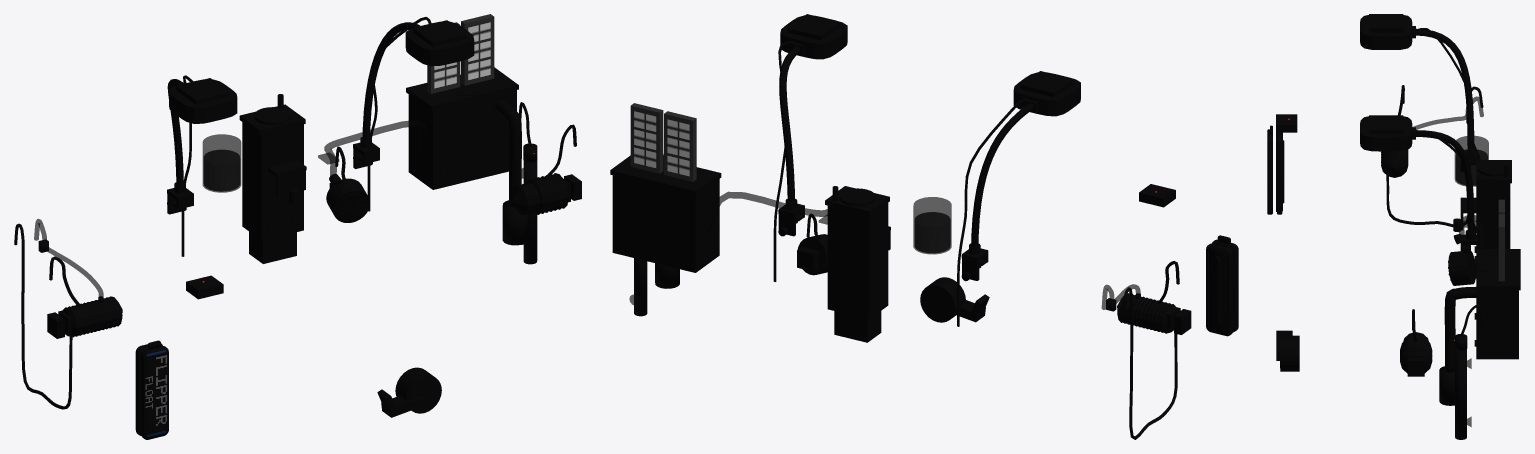
File: equipment.glb
3 views of the same model, side by side, from view 1: azimuth 30°, elevation 25°; view 2: azimuth 150°, elevation 25°; view 3: azimuth 270°, elevation 25° (orthographic). The views are drawn at different scales.
Parts seen in each view (by area): view 1: HobFilter, Skimmer, AiPrimeR, AiPrimeL, Flipper, PowerheadRight, PowerheadLeft, IntakeTube, Jar, PowerheadBack, FrontMagnet, Heater (+5 smaller); view 2: HobFilter, Skimmer, AiPrimeL, AiPrimeR, Flipper, PowerheadLeft, Jar, FrontMagnet, PowerheadBack, CableLeft, ReturnPipe, Heater (+1 smaller); view 3: HobFilter, AiPrimeR, AiPrimeL, Skimmer, IntakeTube, Heater, PowerheadRight, Flipper, Jar, PowerheadBack, PowerheadLeft, FrontMagnet (+4 smaller).
Boxes of the visible parts, <box> form: HobFilter: <box>406,14,518,189</box>; Skimmer: <box>239,94,306,263</box>; AiPrimeR: <box>353,17,474,211</box>; AiPrimeL: <box>167,75,237,256</box>; Flipper: <box>135,340,168,439</box>; PowerheadRight: <box>512,124,581,215</box>; PowerheadLeft: <box>47,256,122,338</box>; IntakeTube: <box>495,99,527,245</box>; Jar: <box>202,134,241,192</box>; PowerheadBack: <box>326,146,370,222</box>; FrontMagnet: <box>395,367,441,413</box>; Heater: <box>519,102,537,264</box>; HobFilter: <box>610,103,721,272</box>; Skimmer: <box>825,186,890,342</box>; AiPrimeL: <box>957,71,1080,326</box>; AiPrimeR: <box>773,14,847,281</box>; Flipper: <box>1206,235,1238,336</box>; PowerheadLeft: <box>1117,261,1191,334</box>; Jar: <box>913,197,951,254</box>; FrontMagnet: <box>920,277,965,322</box>; PowerheadBack: <box>797,214,827,275</box>; CableLeft: <box>1123,287,1177,439</box>; ReturnPipe: <box>707,191,827,232</box>; Heater: <box>629,258,647,316</box>; HobFilter: <box>1474,199,1520,359</box>; AiPrimeR: <box>1360,115,1482,253</box>; AiPrimeL: <box>1360,14,1476,149</box>; Skimmer: <box>1453,160,1511,252</box>; IntakeTube: <box>1439,287,1476,405</box>; Heater: <box>1455,305,1483,439</box>; PowerheadRight: <box>1400,309,1432,376</box>; Flipper: <box>1267,125,1284,214</box>; Jar: <box>1454,135,1488,186</box>; PowerheadBack: <box>1448,226,1482,285</box>; PowerheadLeft: <box>1381,85,1408,177</box>; FrontMagnet: <box>1280,335,1299,371</box>.
Size of the model in its own units: 127 by 72.1 by 59.14.
19 materials, 2 textured.
